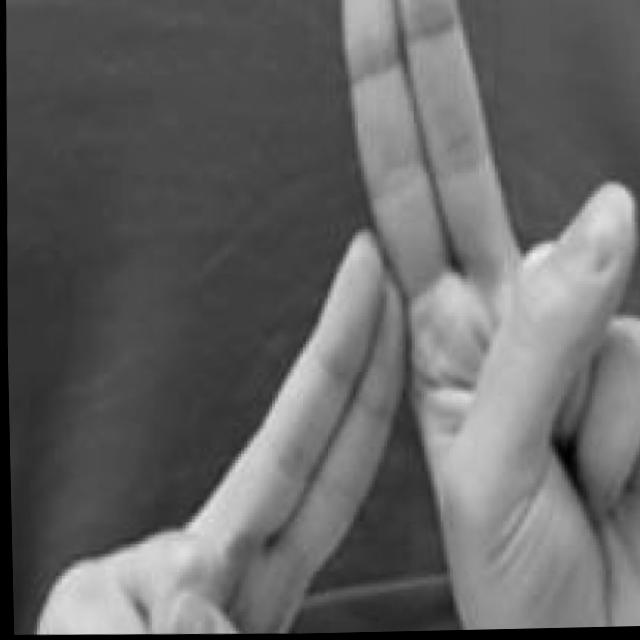K: (19, 0, 640, 640)
